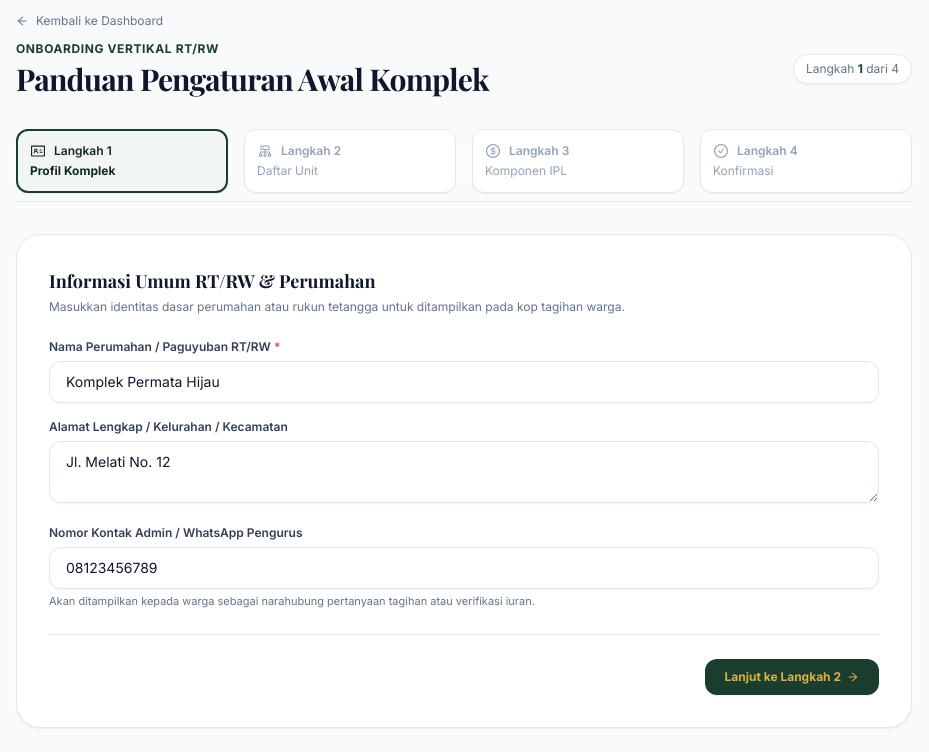
Test: SetupWizard — Logika Idempoten & Aman Dijalankan Ulang (RTRW-2.5) › Component Flow: SetupWizard Execution › c.2: jika kode undangan belum ada → saveInviteCodeWithRetry dipanggil untuk membuat baru
Check: the heading "Panduan Pengaturan Awal Komplek" is shown, box [16, 61, 489, 97]
// Pindah ke Step 4 & Simpan
What coordinates should you click on to do the following:
click the button "Langkah 4 Konfirmasi"
I would click on:
 (806, 161)
Its box is [700, 129, 912, 193].
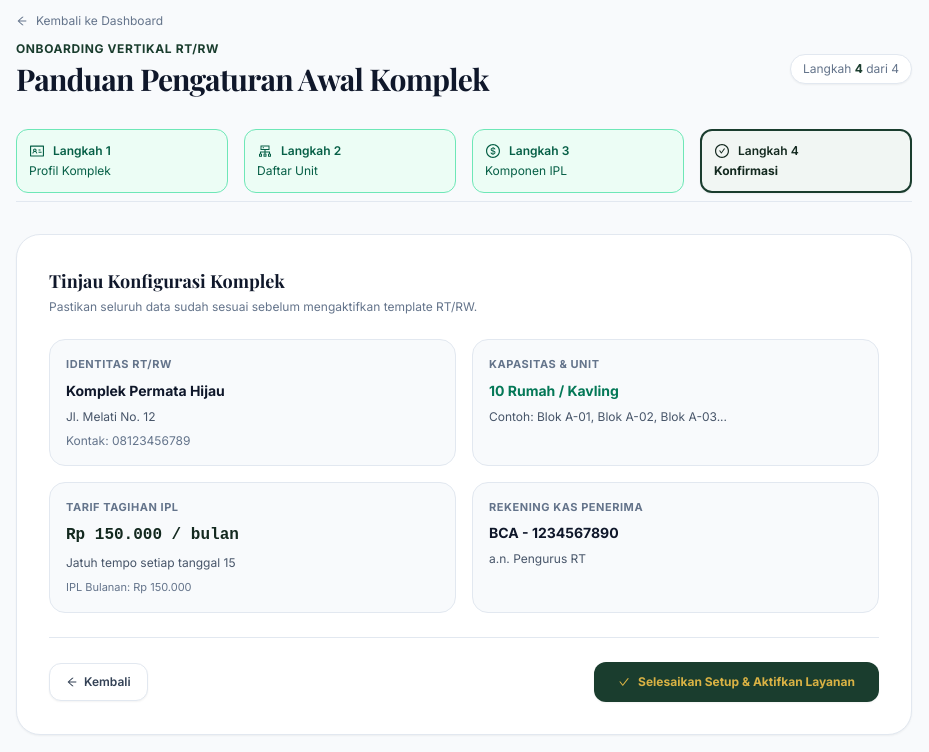
What coordinates should you click on to do the following:
click the button "Selesaikan Setup & Aktifkan Layanan"
I would click on:
 (737, 682)
Its box is [594, 662, 879, 702].
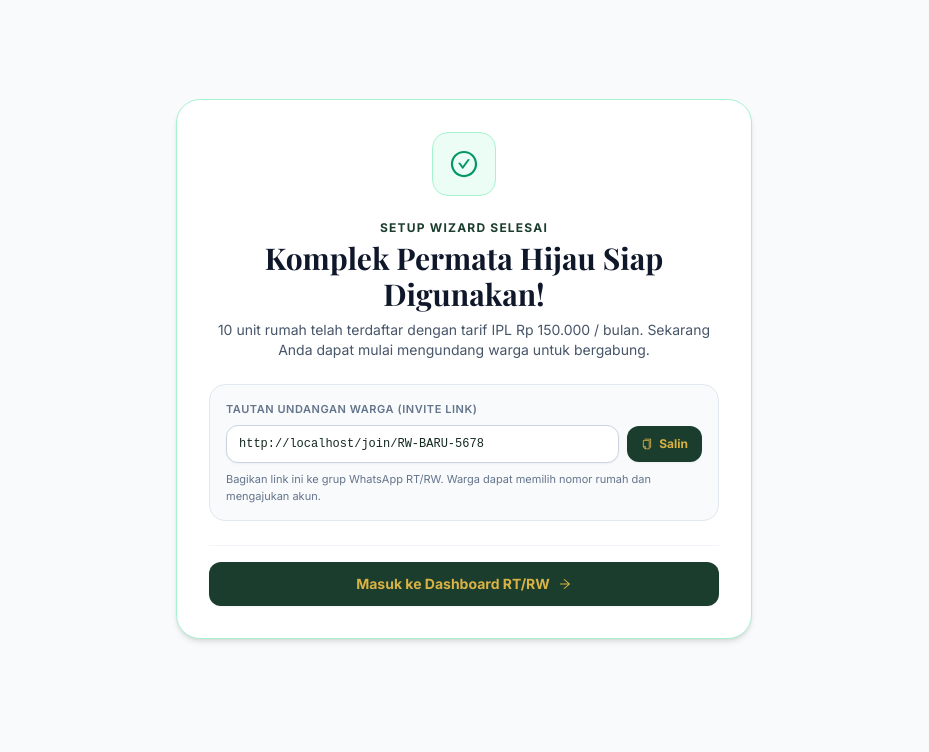
Check: the text "Setup Wizard Selesai" is shown, box [380, 220, 548, 235]
Check: the field showing "RW-BARU-5678" is shown, box [226, 425, 619, 463]
